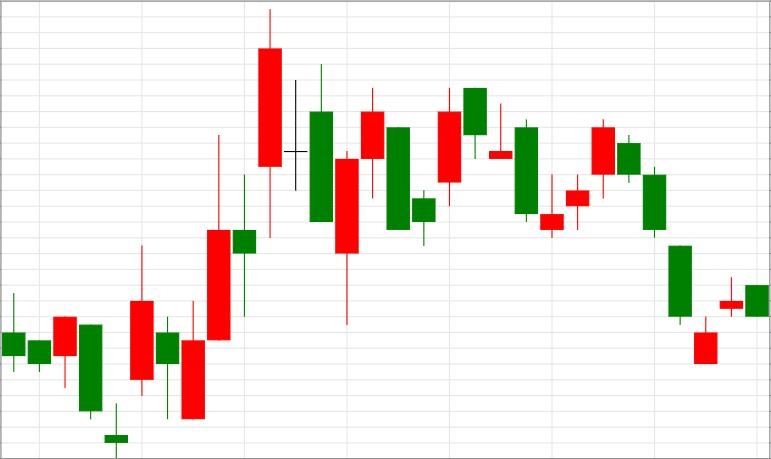morning_star_rise: (2, 246, 154, 458)
three_black_crows_fall: (539, 118, 691, 325)
